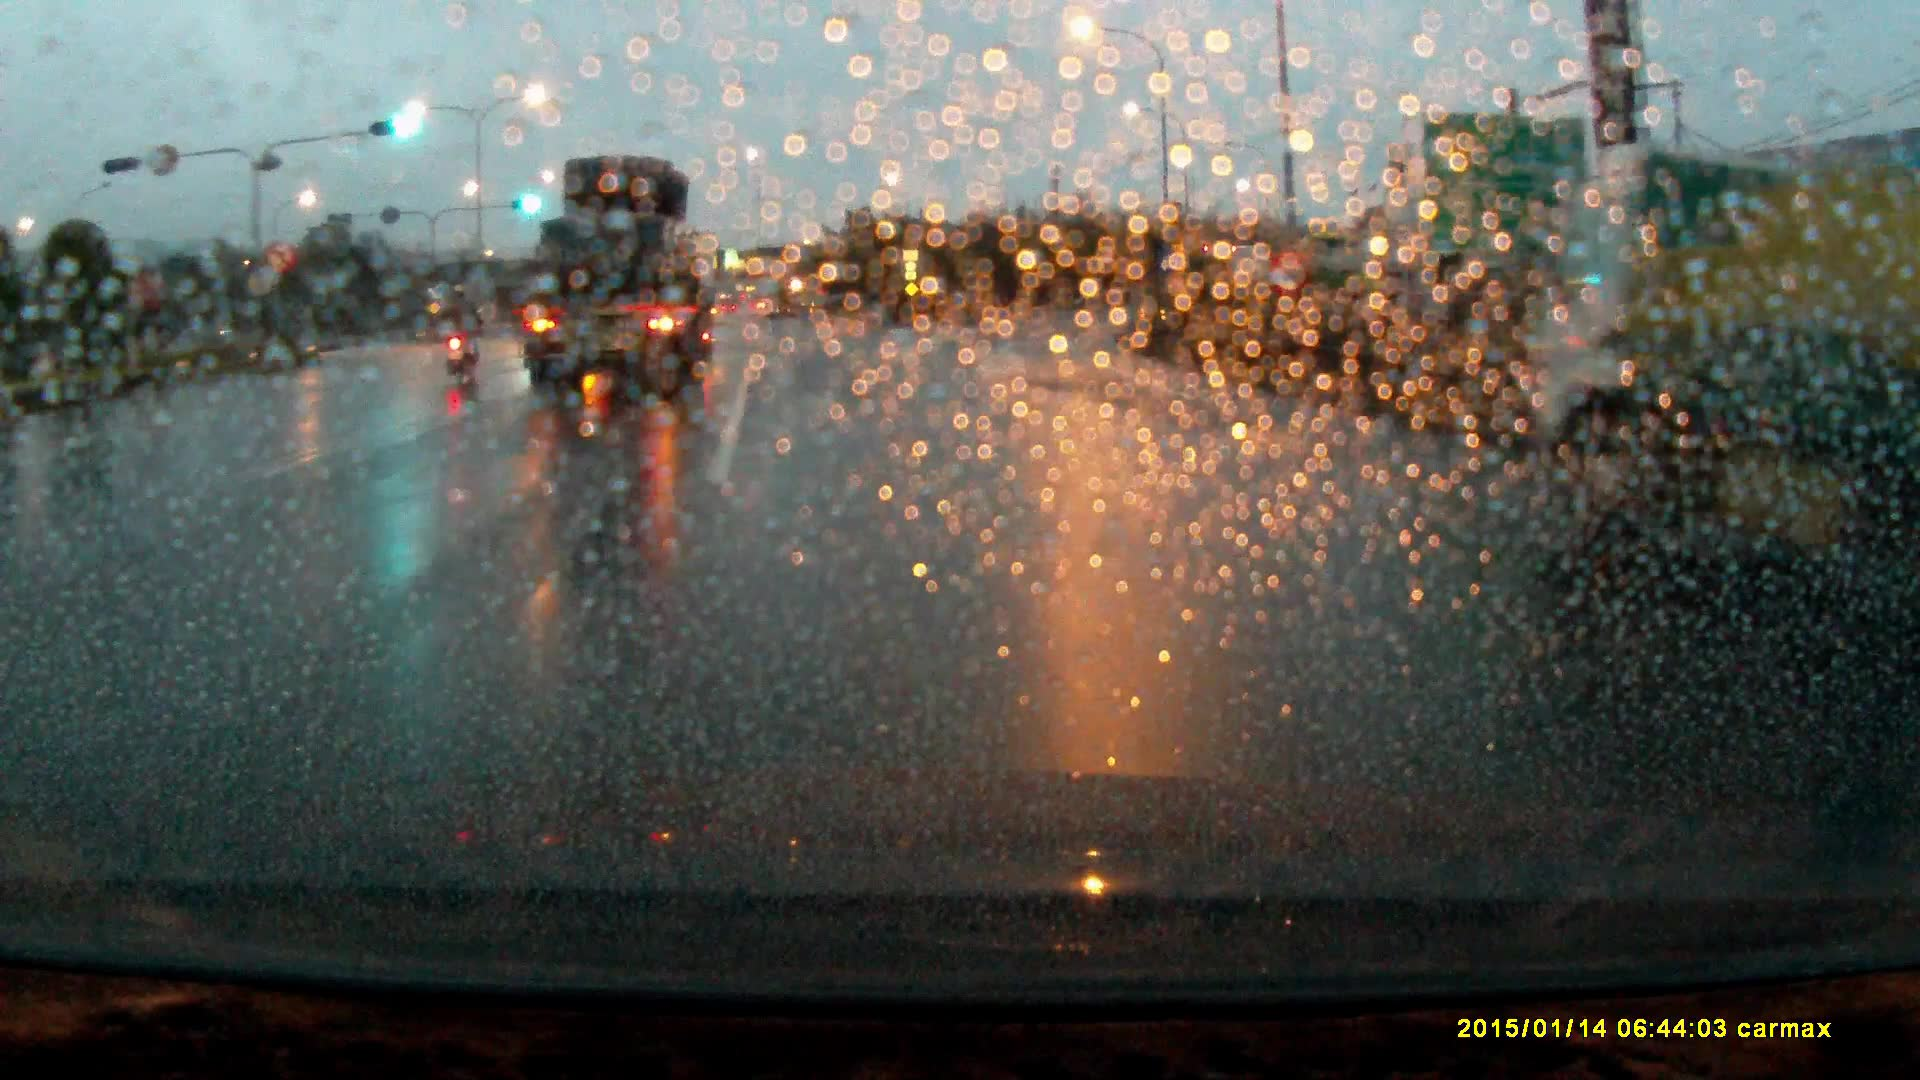rider: (431, 280, 482, 389)
vehicle: (1533, 129, 1920, 574), (517, 152, 716, 407)
